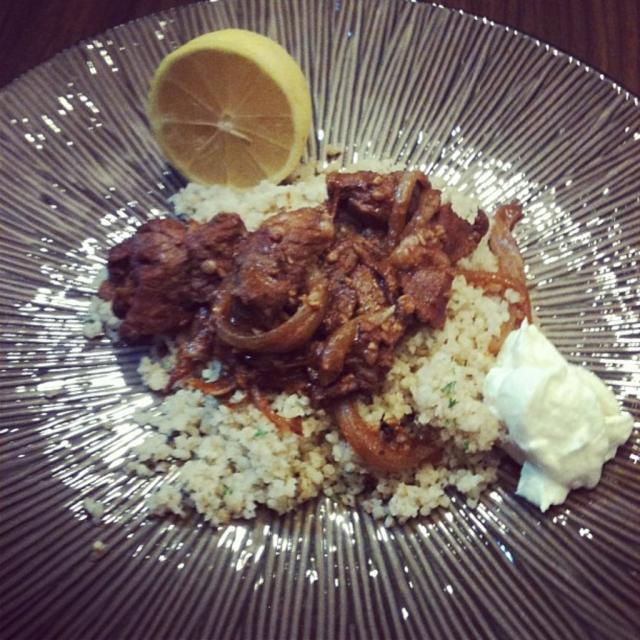Lemon: (152, 34, 308, 194)
